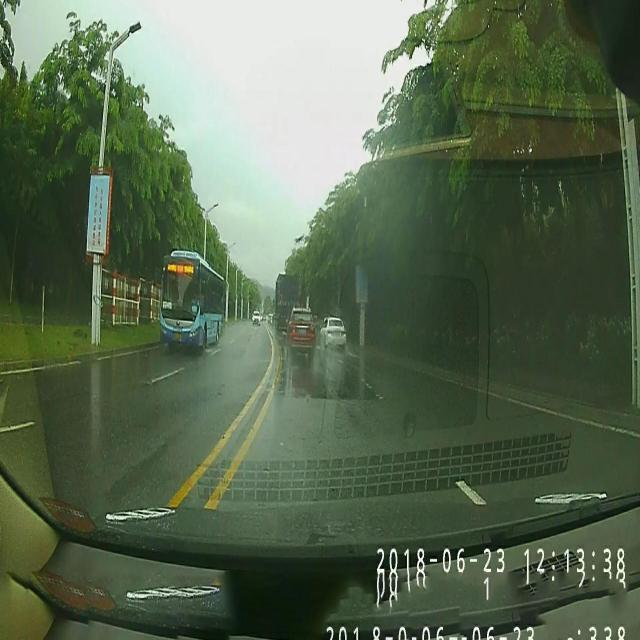car: (286, 304, 316, 354), (321, 316, 346, 352), (252, 310, 260, 326)
